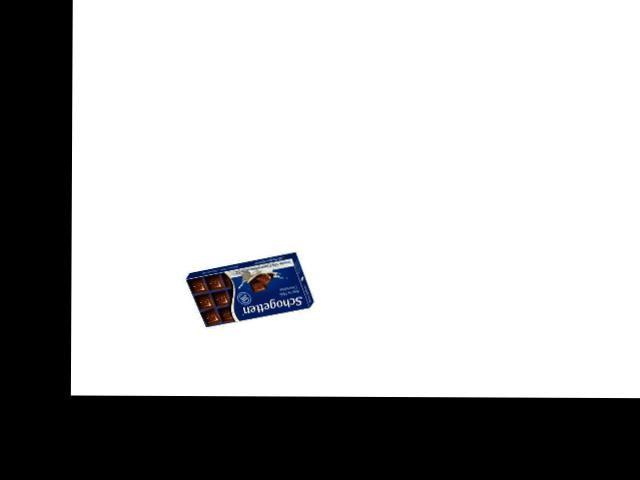chocolate: (184, 262, 316, 327)
